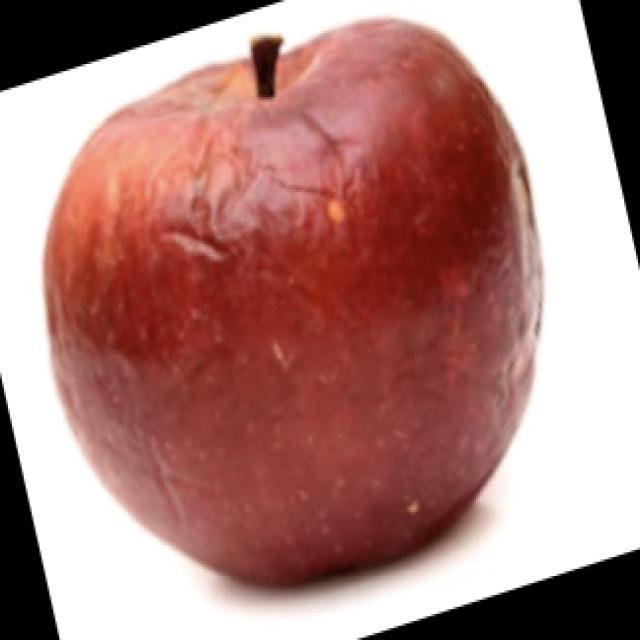Rotten: (40, 15, 533, 577)
